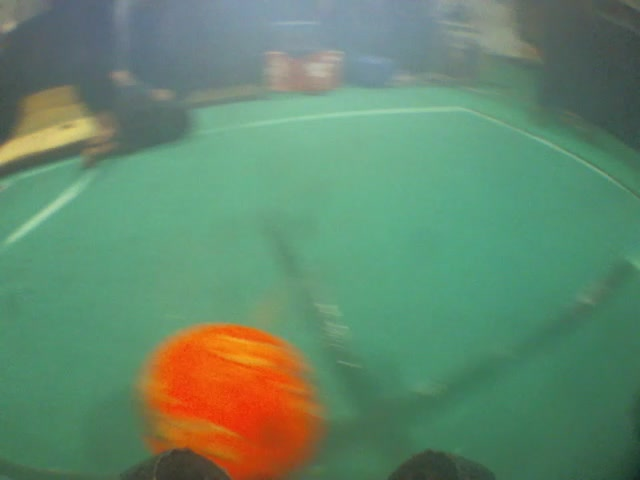ball: (123, 312, 333, 480)
